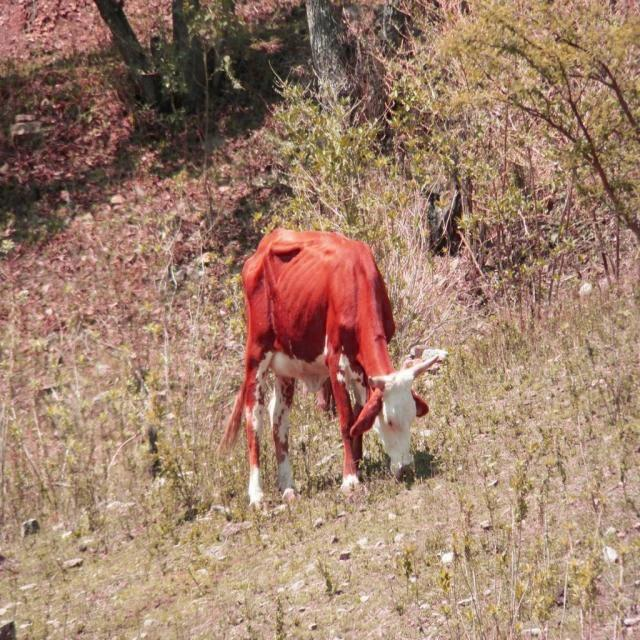cow: (222, 229, 445, 504)
